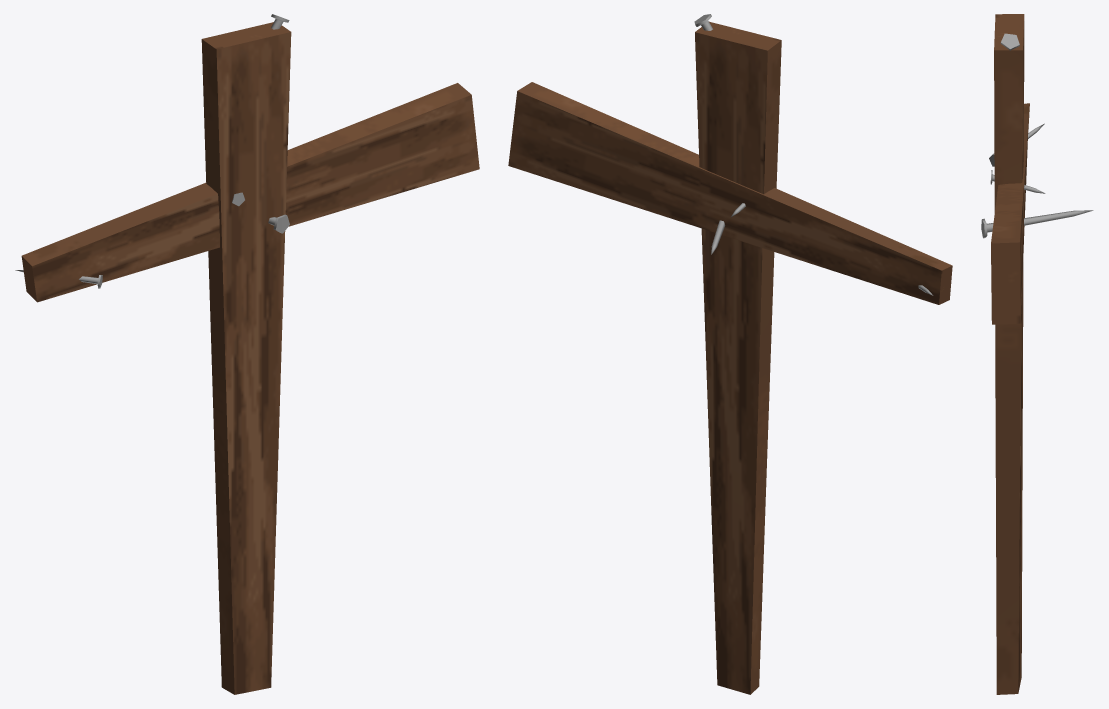
File: TheReckoningBackUp1.fbx
The picture shows the model from 3 angles, left to right: view 1: azimuth 30°, elevation 25°; view 2: azimuth 150°, elevation 25°; view 3: azimuth 270°, elevation 25°; orthographic projection.
Parts seen in each view (by area): view 1: TheReckoning; view 2: TheReckoning; view 3: TheReckoning.
Boxes of the visible parts, x1,y1,x2,y2 form: TheReckoning: [15, 14, 479, 694]; TheReckoning: [508, 14, 952, 694]; TheReckoning: [981, 14, 1093, 694].
Size of the model in its own units: 3.93 by 5.68 by 0.8765.
